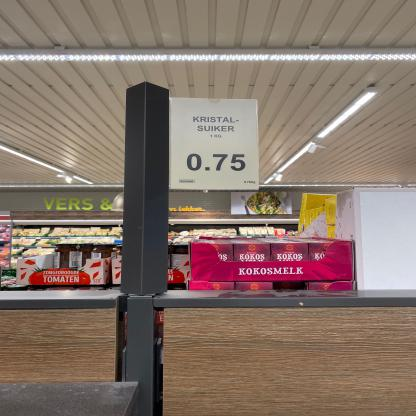prtg: (171, 98, 260, 191)
